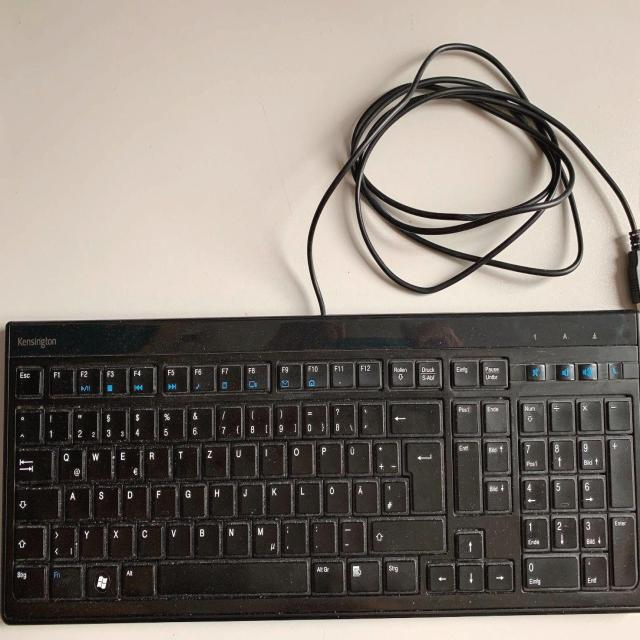0: (301, 401, 327, 435)
1: (43, 406, 68, 442)
2: (72, 407, 98, 441)
3: (101, 406, 126, 442)
4: (129, 405, 154, 439)
5: (157, 405, 183, 439)
6: (186, 404, 212, 438)
7: (216, 403, 242, 439)
8: (244, 402, 270, 438)
9: (273, 401, 298, 437)
a: (63, 484, 89, 518)
accent: (358, 399, 382, 433)
ae: (353, 477, 377, 513)
alt-left: (120, 560, 154, 594)
altgr-right: (310, 557, 344, 591)
b: (193, 519, 218, 555)
c: (136, 521, 162, 557)
caret: (13, 404, 39, 442)
comma: (282, 518, 306, 554)
d: (122, 483, 146, 517)
del: (388, 398, 440, 432)
e: (115, 443, 140, 479)
enter: (402, 438, 442, 511)
f: (151, 482, 175, 516)
g: (179, 481, 205, 515)
h: (208, 481, 234, 515)
hash: (381, 477, 405, 511)
i: (259, 440, 283, 474)
j: (238, 481, 262, 515)
k: (267, 480, 291, 514)
keyboard: (0, 306, 640, 630)
l: (295, 479, 319, 513)
less: (50, 522, 75, 558)
m: (252, 519, 278, 555)
minus: (338, 516, 364, 552)
n: (222, 519, 248, 555)
o: (287, 440, 312, 474)
oe: (324, 479, 348, 513)
p: (316, 439, 340, 473)
plus: (373, 437, 397, 473)
point: (310, 517, 336, 553)
q: (57, 446, 83, 480)
r: (142, 443, 168, 477)
s: (93, 484, 117, 518)
shift-left: (11, 524, 43, 558)
shift-lock: (13, 484, 59, 518)
shift-right: (368, 514, 444, 550)
space: (156, 557, 308, 593)
ss: (330, 401, 354, 435)
strg-left: (10, 563, 44, 597)
strg-right: (382, 556, 416, 590)
t: (172, 443, 198, 477)
tab: (14, 446, 52, 480)
u: (229, 440, 255, 476)
ue: (344, 438, 369, 474)
v: (166, 521, 190, 555)
w: (86, 444, 110, 480)
x: (107, 521, 133, 557)
y: (79, 523, 104, 557)
z: (201, 441, 227, 477)
